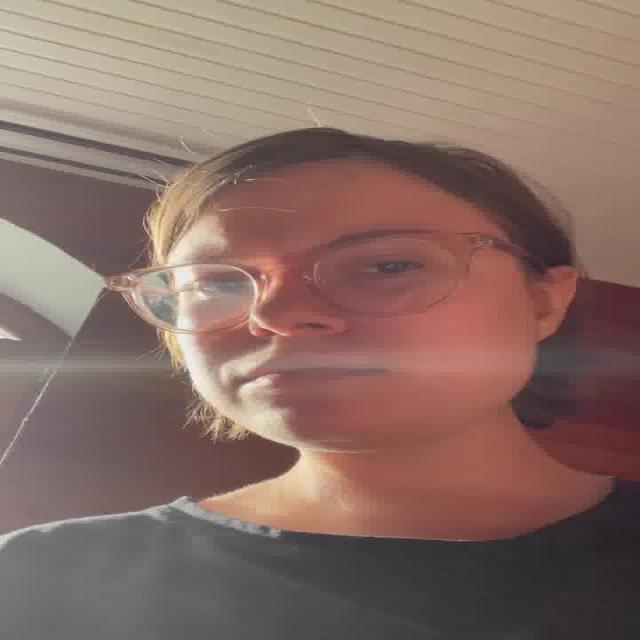earlobe: (532, 265, 580, 341)
